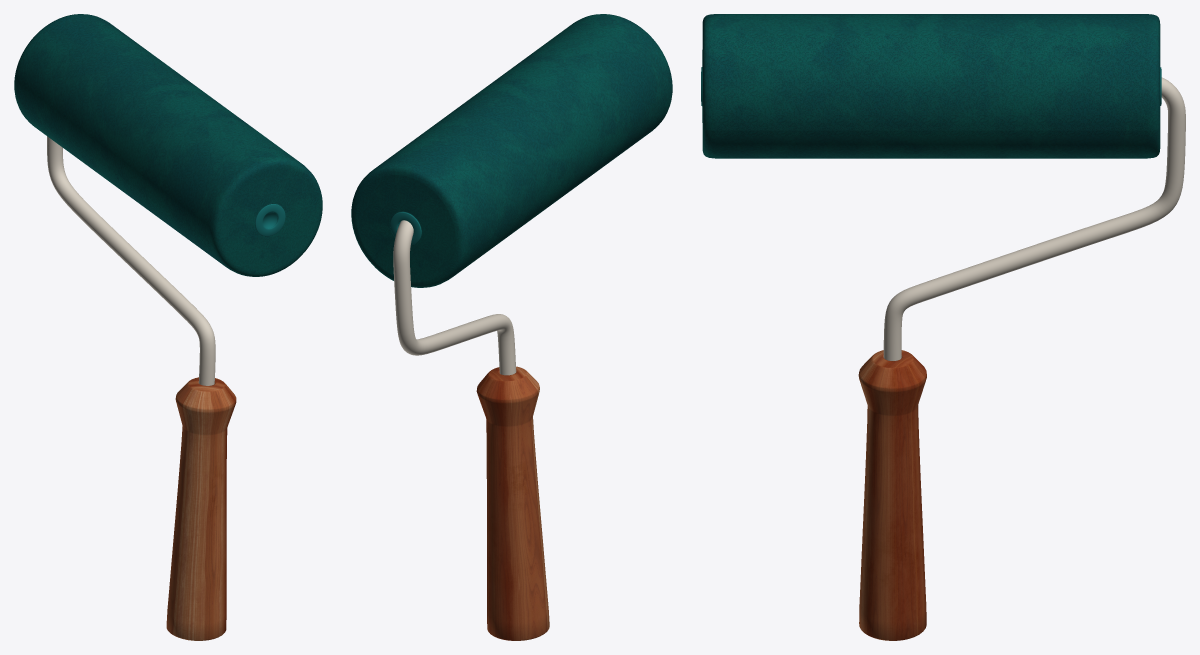
File: rodilloss.obj
3 views of the same model, side by side, from view 1: azimuth 30°, elevation 25°; view 2: azimuth 150°, elevation 25°; view 3: azimuth 270°, elevation 25° (orthographic). The views are drawn at different scales.
Size of the model in its own units: 1.11 by 5.08 by 3.71.
